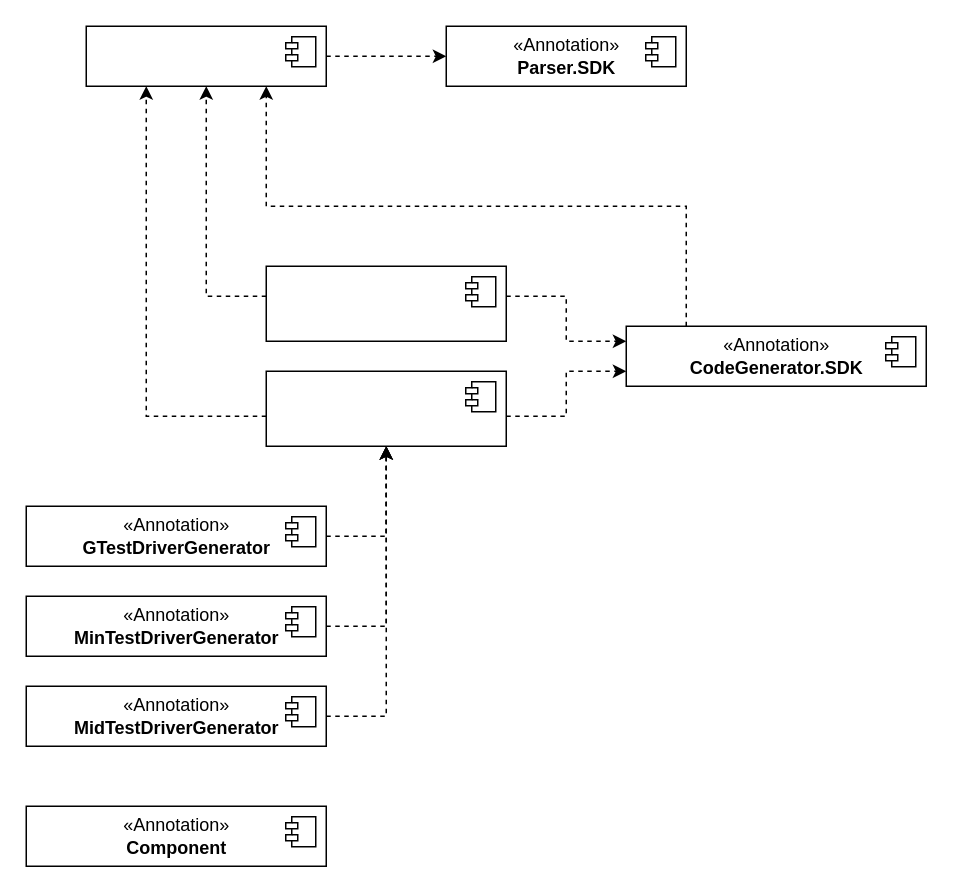
This 953x893 diagram has some shape labels left out. Each missing label, with the box of its shape:
«Annotation» DriverCodeGenerator: (265, 370, 506, 446)
«Annotation» StubCodeGenerator: (265, 265, 506, 341)
«Annotation» TestParser: (85, 25, 326, 86)
